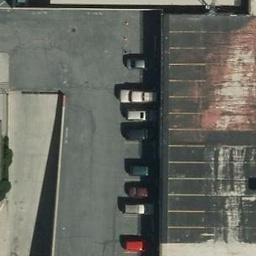car: (120, 232, 155, 254), (117, 87, 160, 104), (124, 53, 157, 71), (126, 184, 157, 203), (124, 126, 158, 143), (127, 162, 159, 178), (124, 205, 155, 219), (126, 107, 158, 119)
